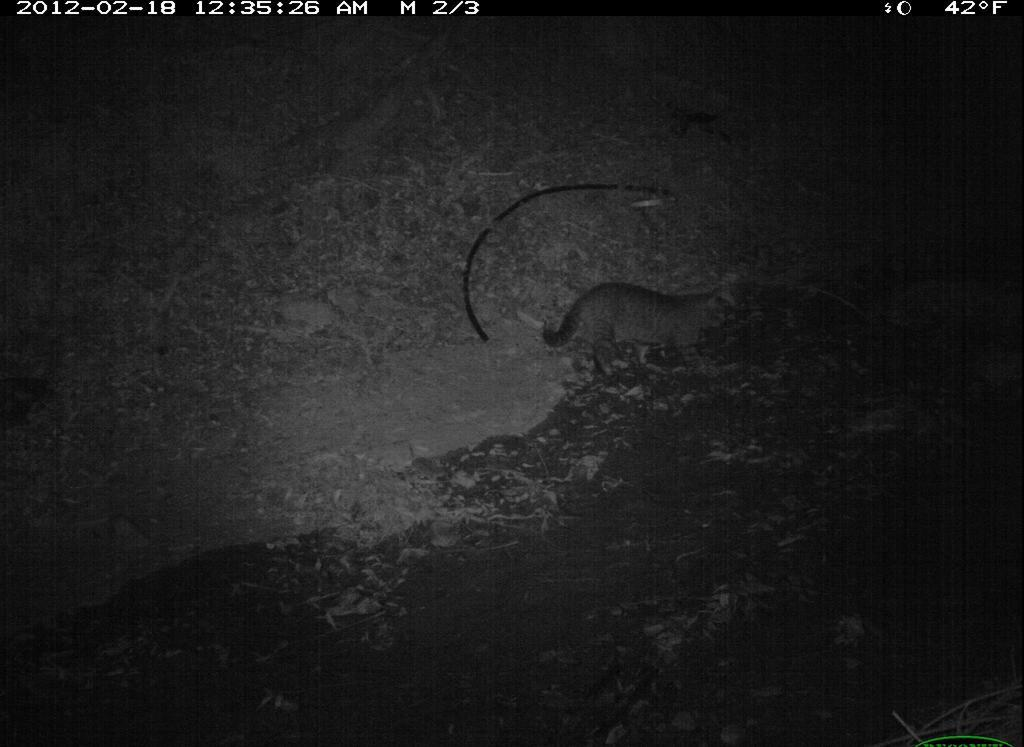cat: (534, 269, 754, 391)
